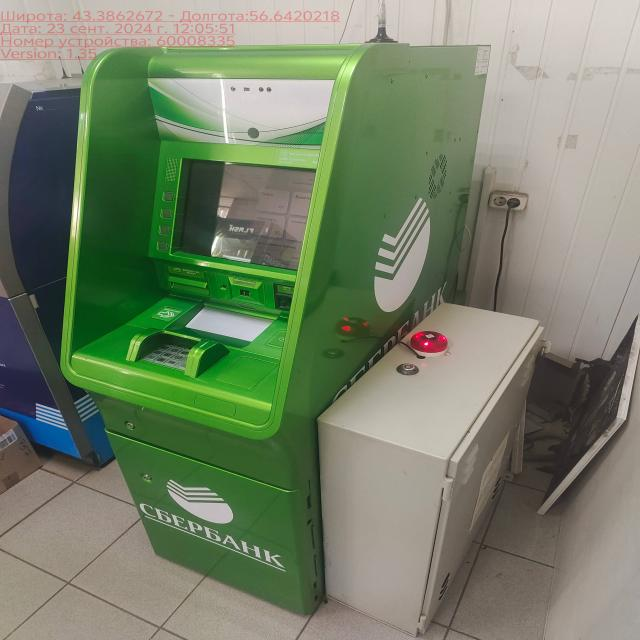bank: (62, 41, 490, 613)
